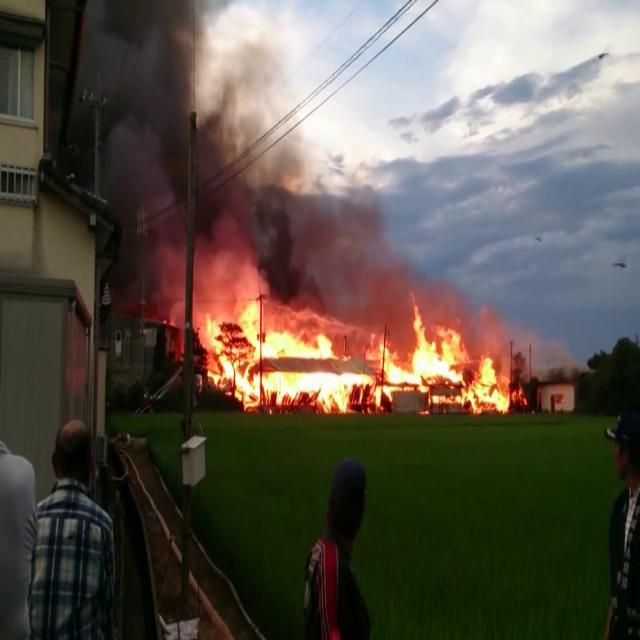Fire: (206, 303, 529, 413)
